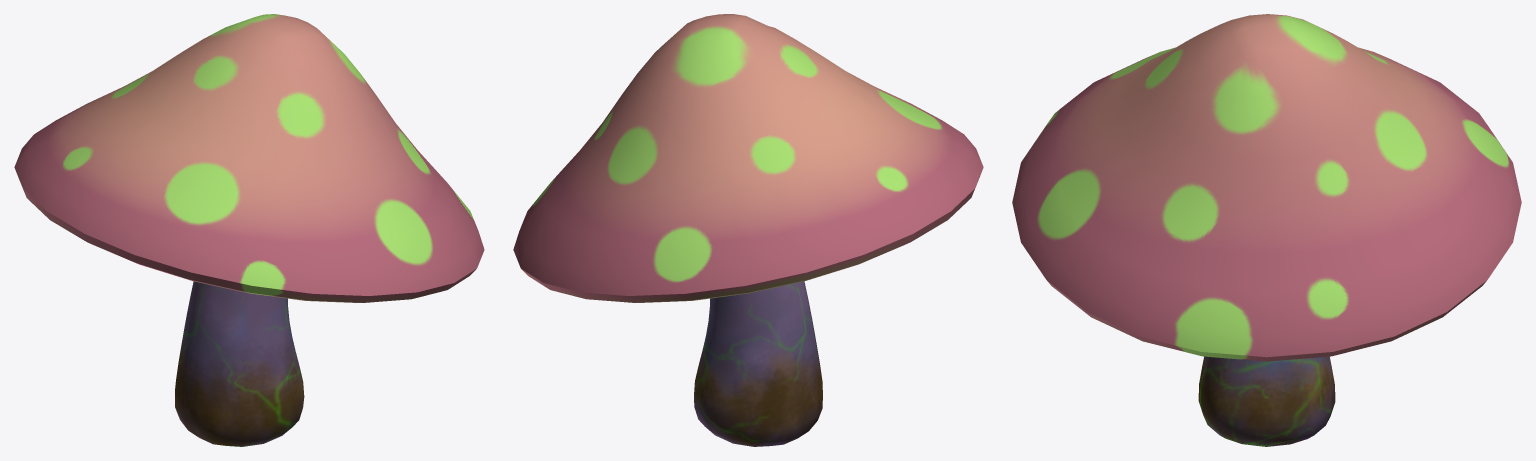
File: Shroom1-optimized.glb
3 renders of one model, left to right at view 1: azimuth 30°, elevation 25°; view 2: azimuth 150°, elevation 25°; view 3: azimuth 270°, elevation 25°, orthographic. The views are drawn at different scales.
Visible parts, largest first — view 1: Vert.017; view 2: Vert.017; view 3: Vert.017.
Boxes of the visible parts, x1,y1,x2,y2 form: Vert.017: [14, 14, 484, 446]; Vert.017: [513, 14, 983, 446]; Vert.017: [1012, 14, 1521, 446].
Size of the model in its own units: 1.03 by 0.9827 by 1.05.
1 material, 1 textured.
